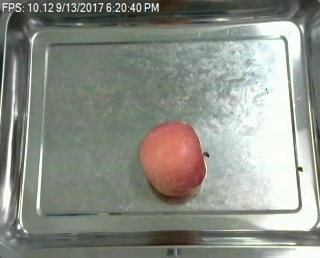Apple: (136, 121, 209, 198)
